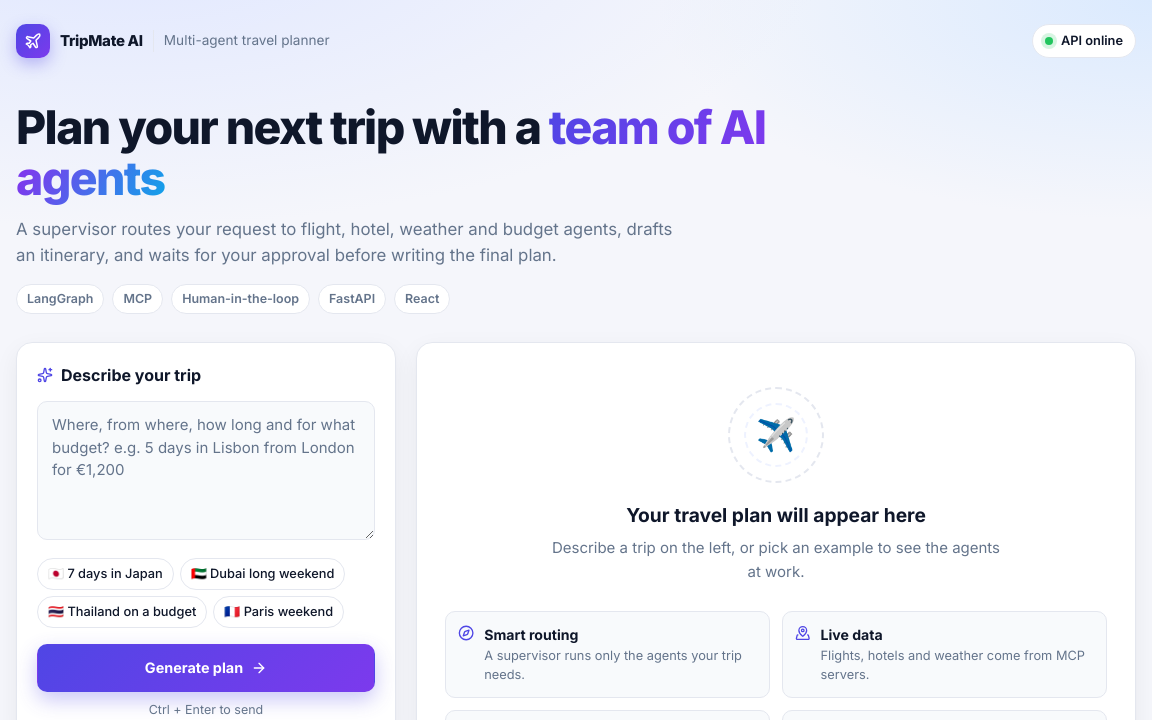
App › approves the draft and renders the final plan
Type "Plan 3 days in Tokyo" into the text box named "Travel request" at (206, 471), box 37,401 -> 375,540
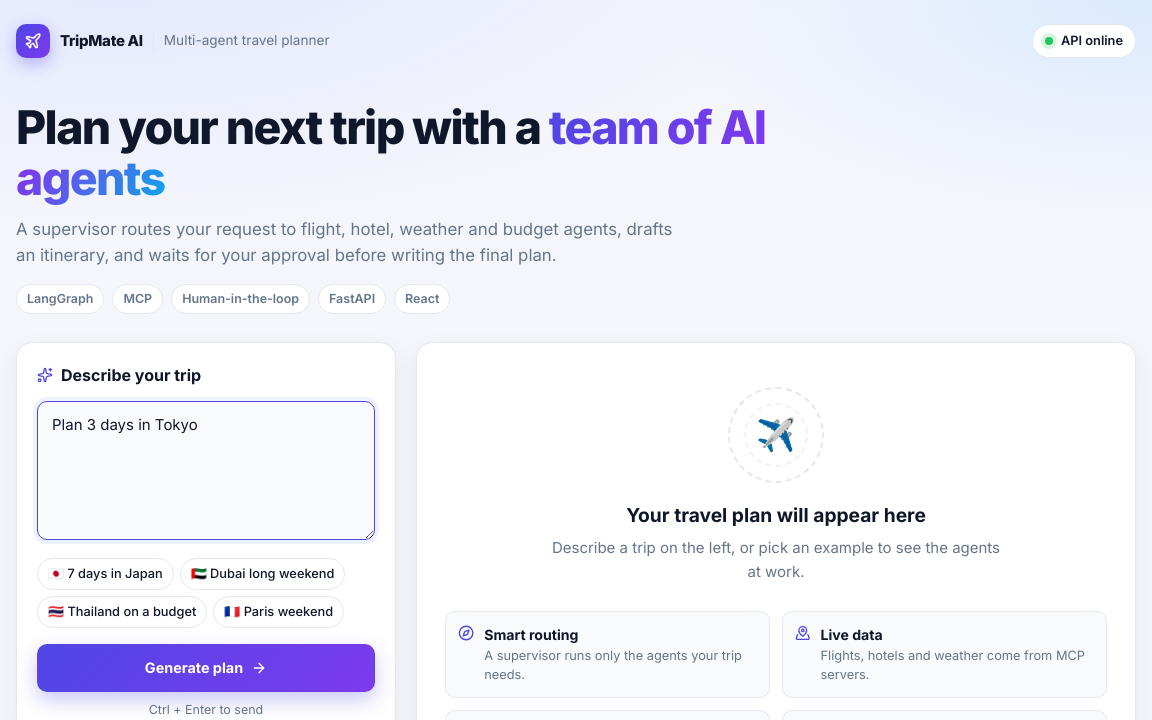
Click the button "Generate plan" at (206, 668), box 37,644 -> 375,692
(page scrolled)
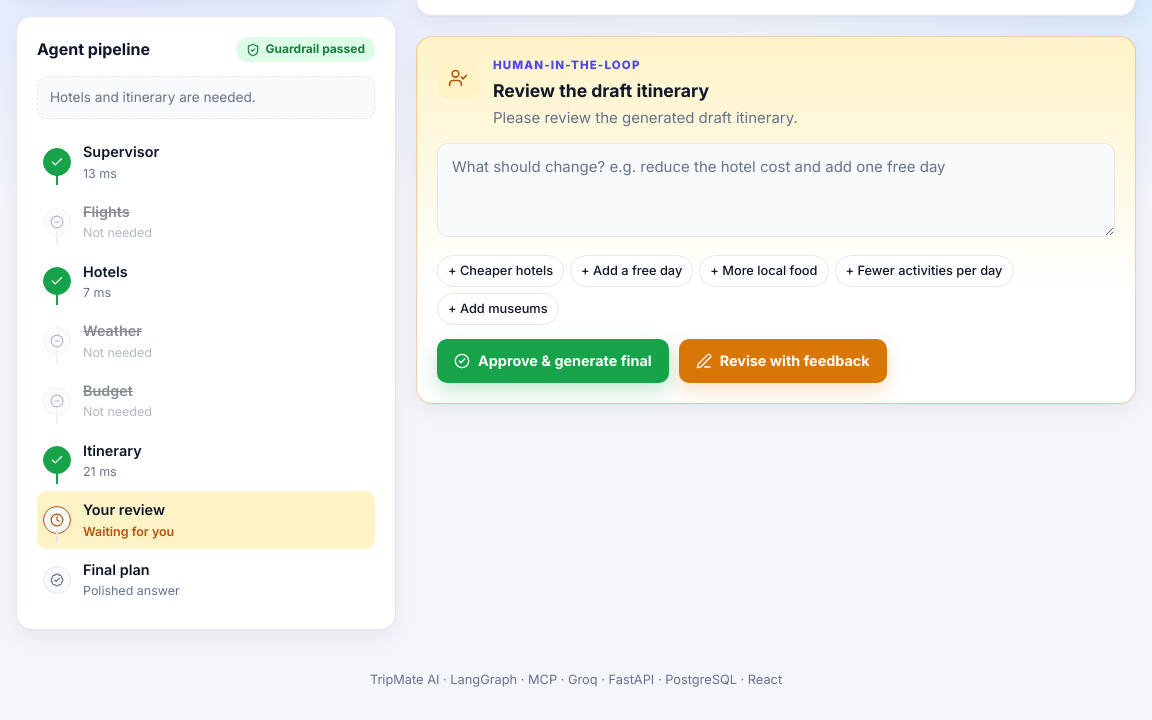
Click the button "Approve & generate final" at (553, 361), box 437,338 -> 669,383
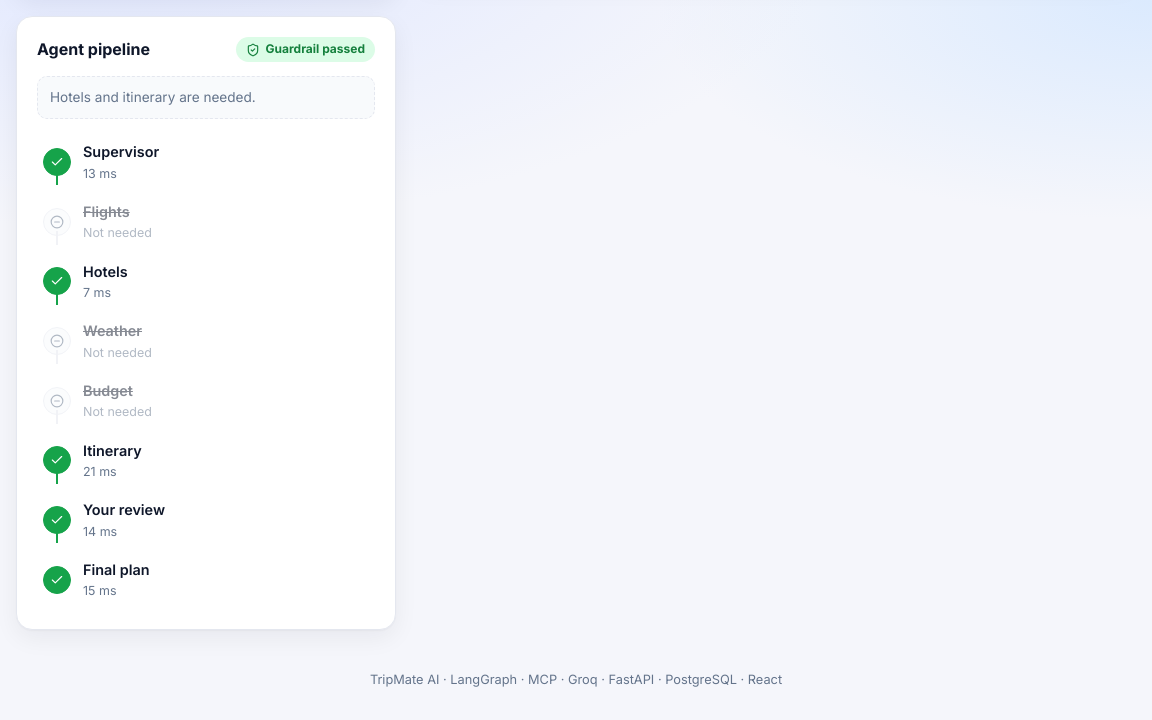
Check: the heading "Review the draft itinerary" is gone
